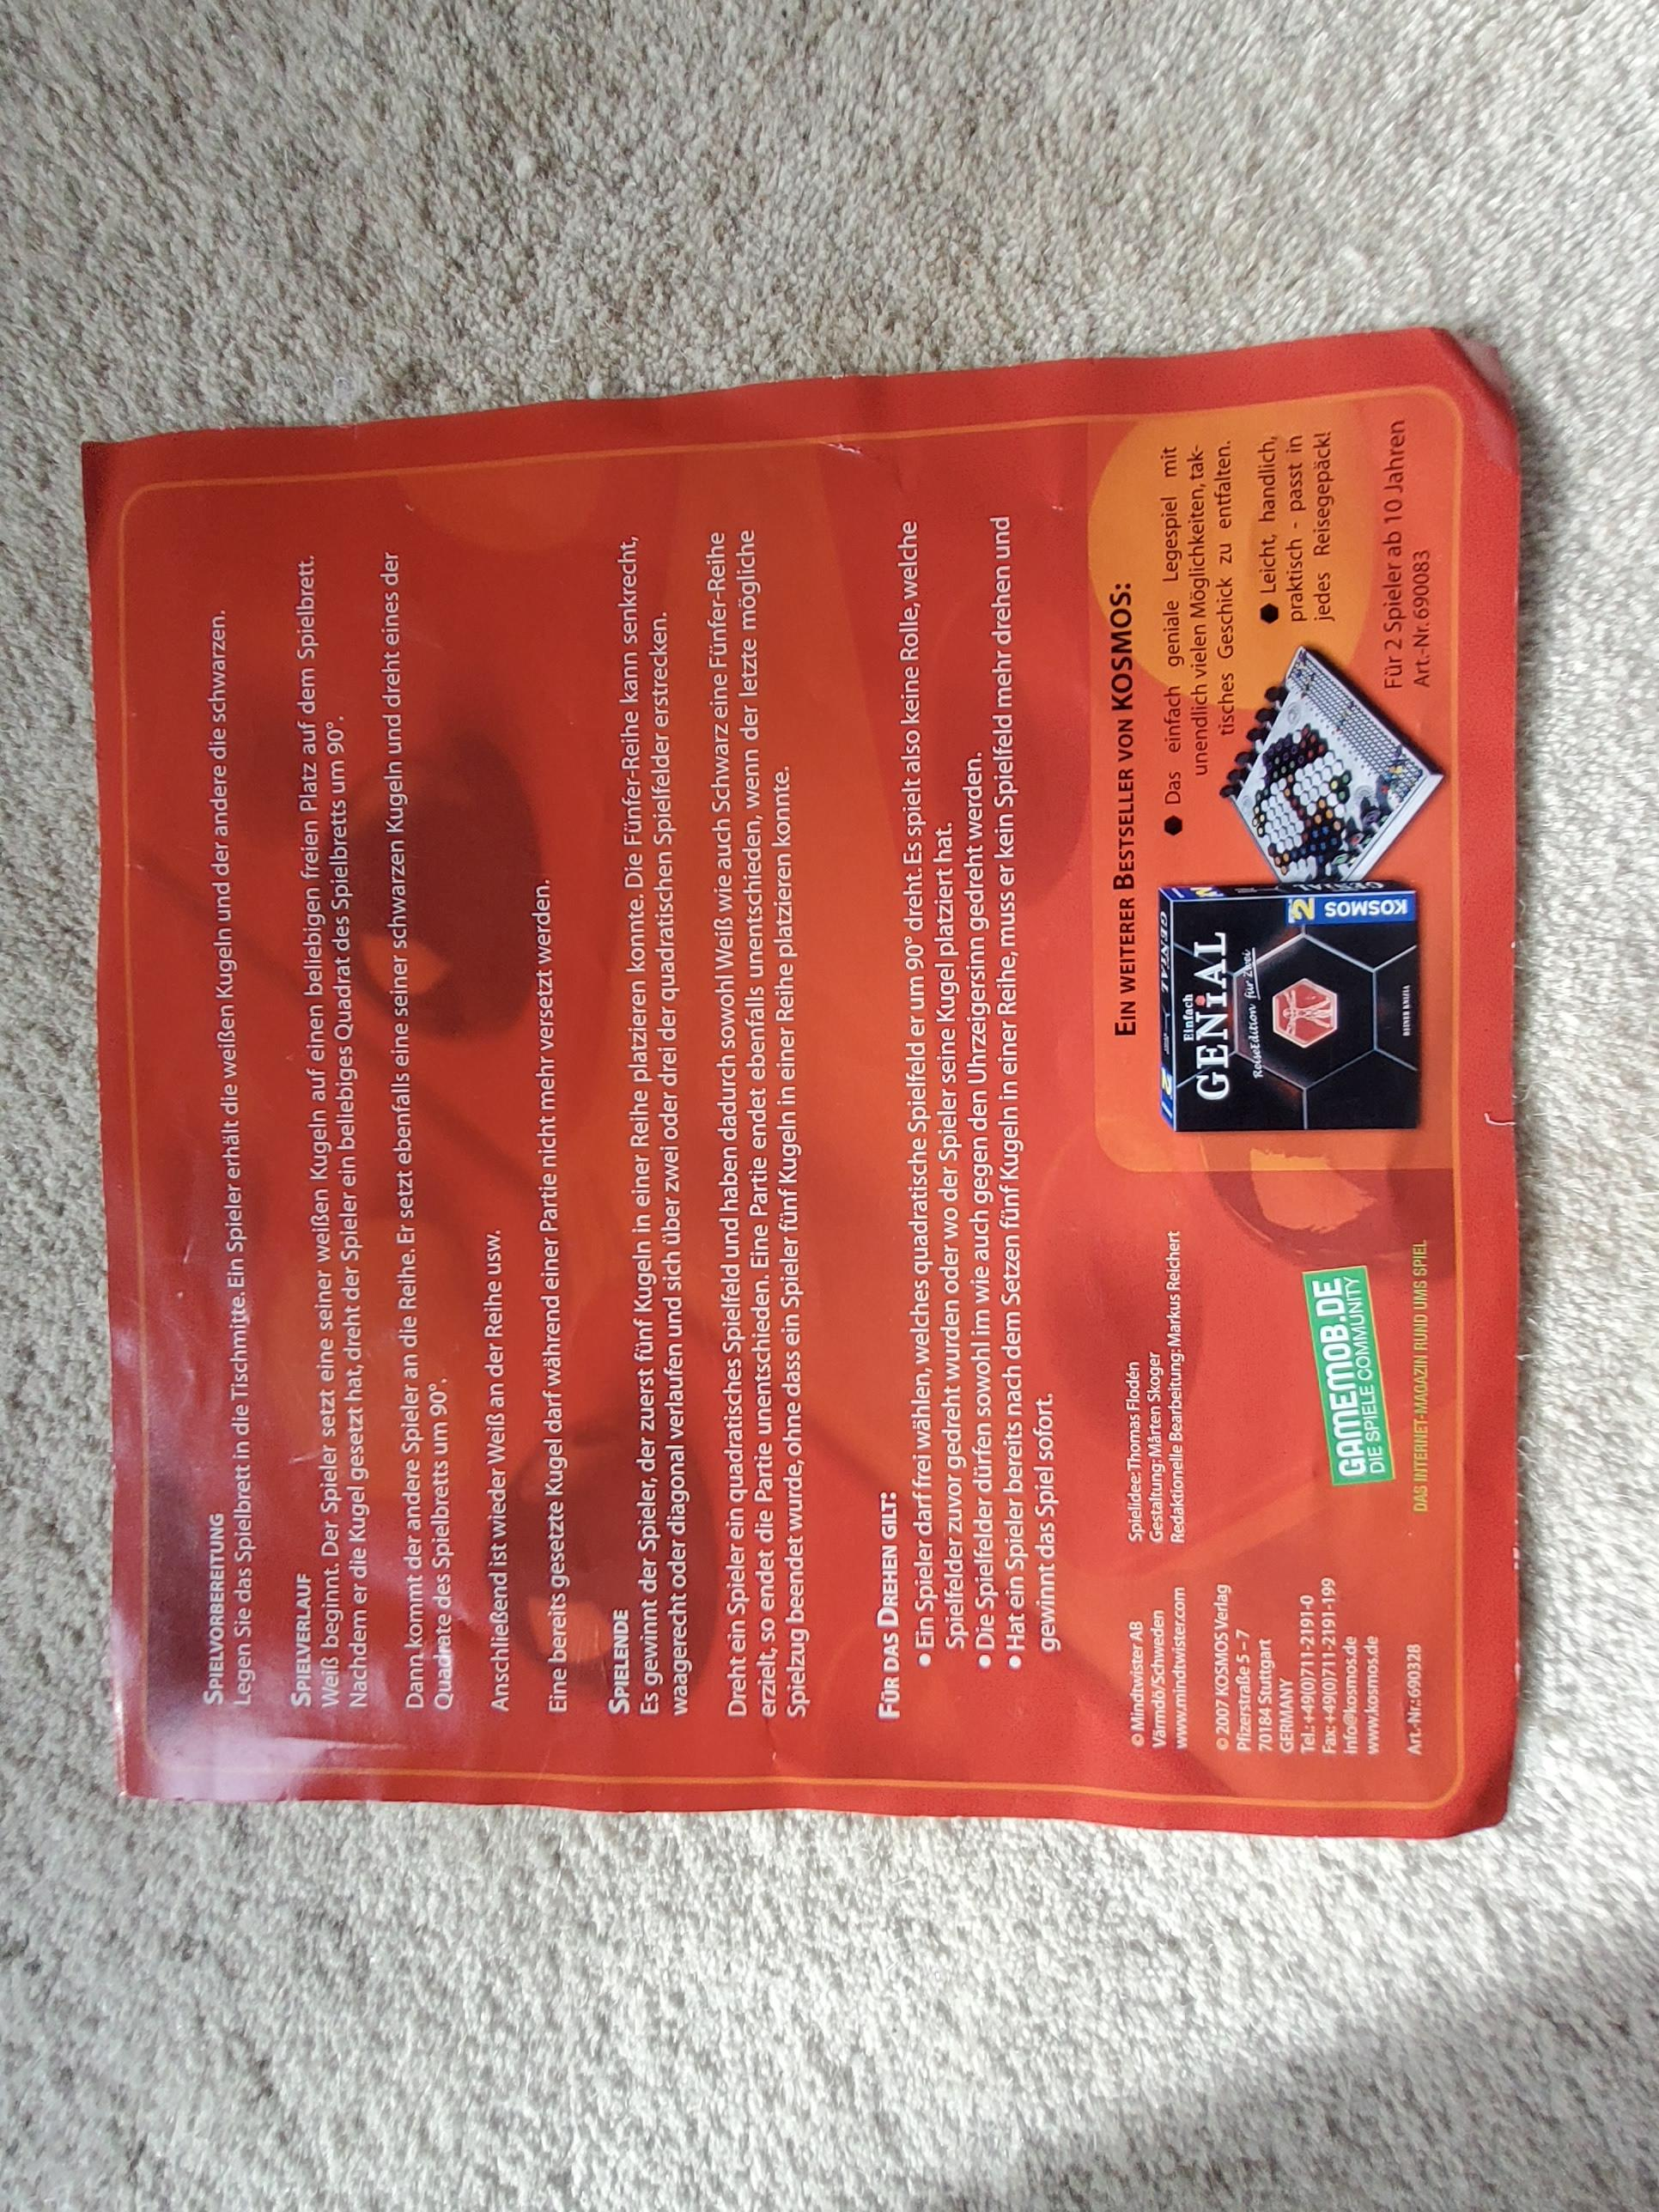pentago: (75, 303, 1525, 1834)
